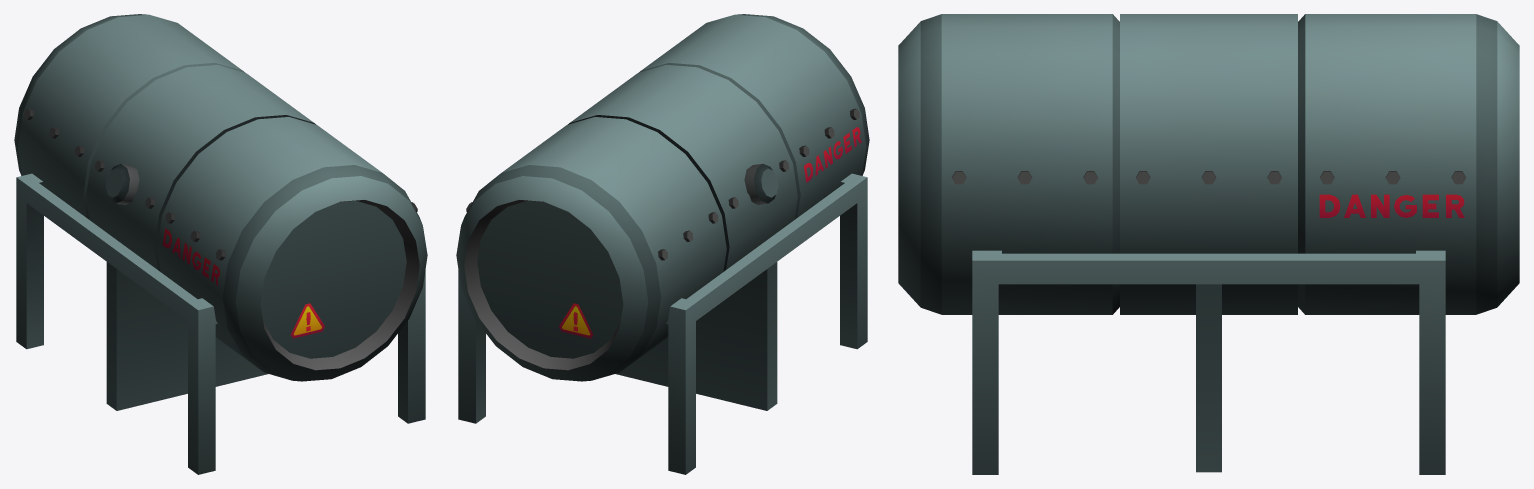
Rendered from Tank_1B.fbx.
3 views of the same model, side by side, from view 1: azimuth 30°, elevation 25°; view 2: azimuth 150°, elevation 25°; view 3: azimuth 270°, elevation 25° (orthographic). The views are drawn at different scales.
Visible parts, largest first — view 1: Tank_1B; view 2: Tank_1B; view 3: Tank_1B.
Boxes of the visible parts, x1=… form: Tank_1B: x1=14, y1=14, x2=427, y2=474; Tank_1B: x1=456, y1=14, x2=869, y2=474; Tank_1B: x1=898, y1=14, x2=1519, y2=474.
Size of the model in its own units: 2.6 by 3.15 by 4.73.
